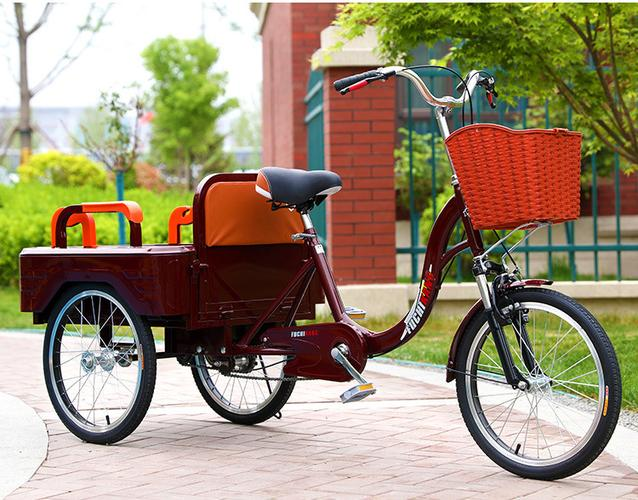empty: (65, 18, 638, 487)
